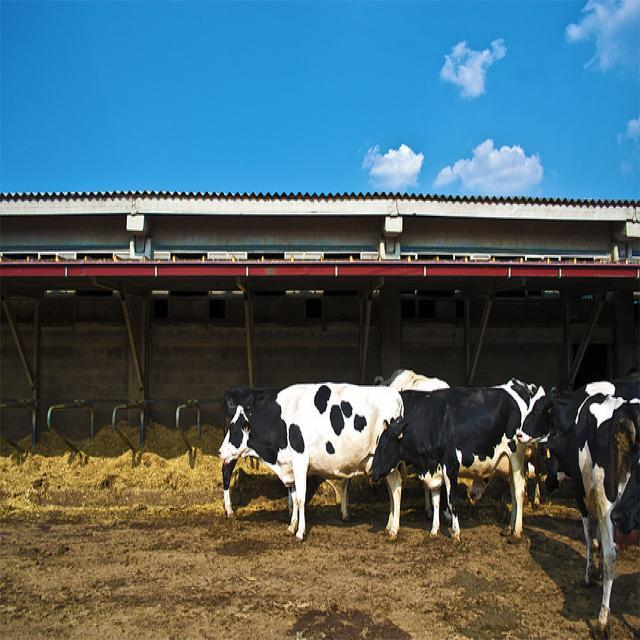cow: (213, 378, 403, 546), (367, 375, 545, 541), (568, 390, 639, 631), (515, 370, 638, 474), (380, 369, 448, 409), (220, 456, 237, 519)
